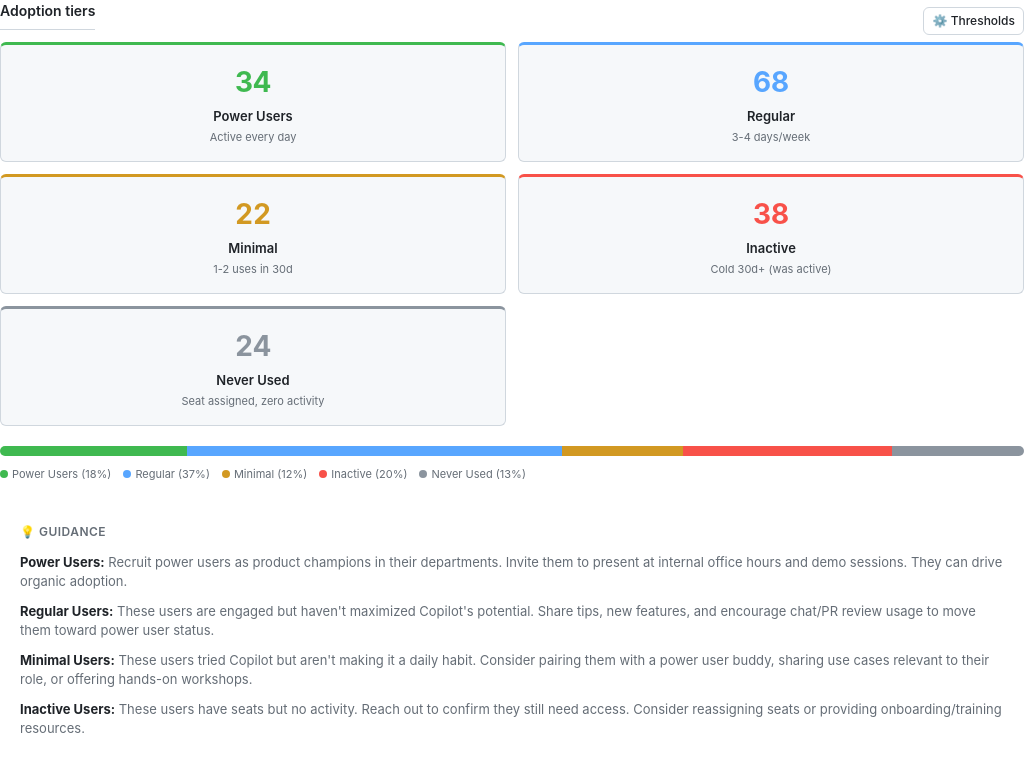
Test: AdoptionPane › table header shows active filter tier name
Click power tier
Step 1. Click the button "34 Power Users Active every day" → (253, 102), box [0,42,506,162]
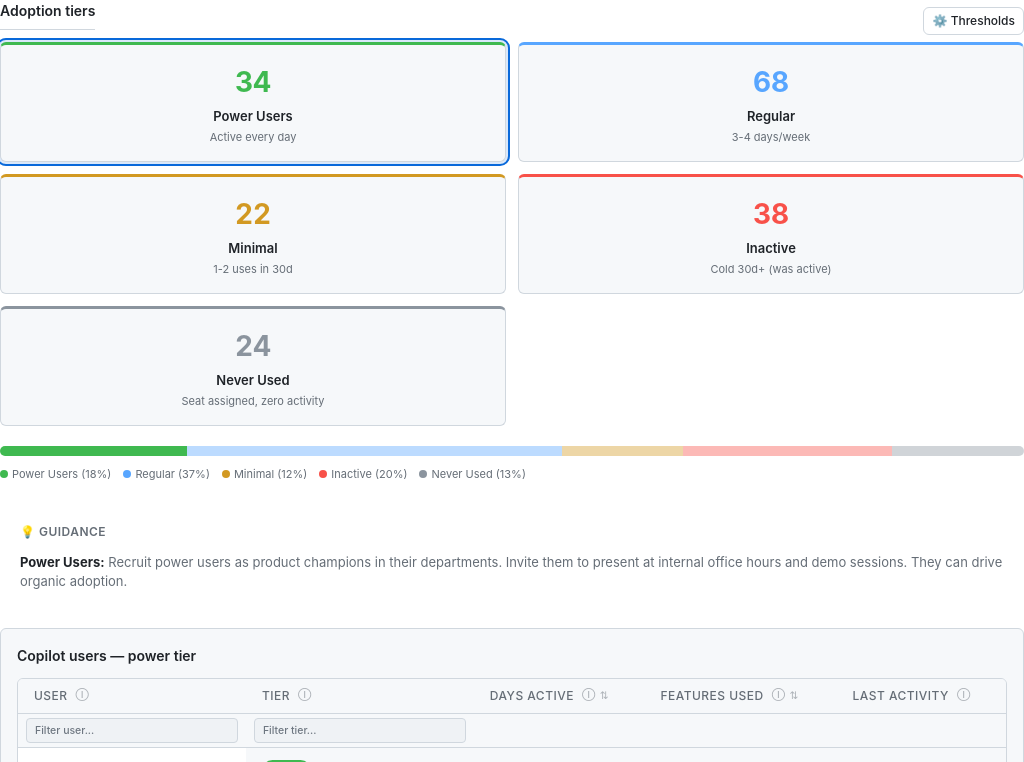
expect the heading "Copilot users — power tier" is shown: met, box [17,644,196,666]
